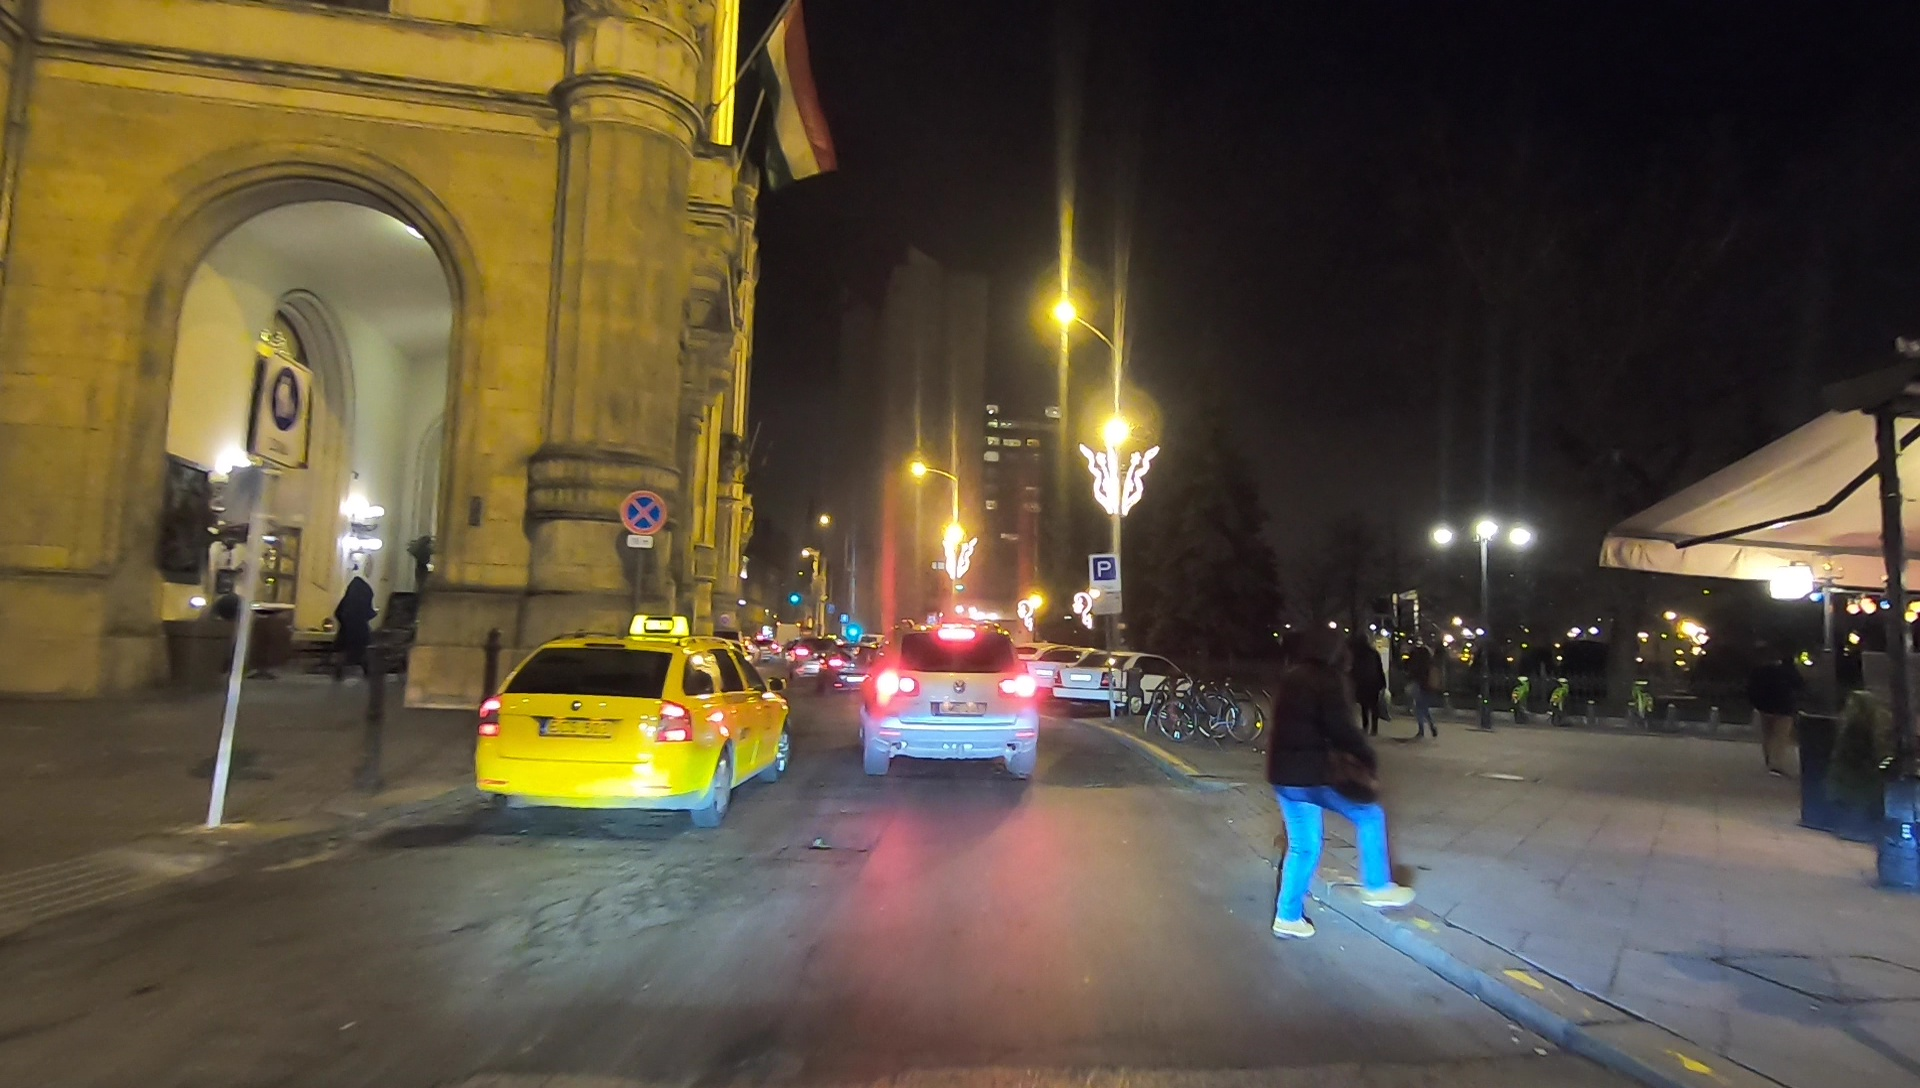person: (1262, 623, 1417, 941), (1747, 641, 1795, 774), (323, 573, 376, 684), (1402, 630, 1441, 741), (1351, 636, 1389, 745)
